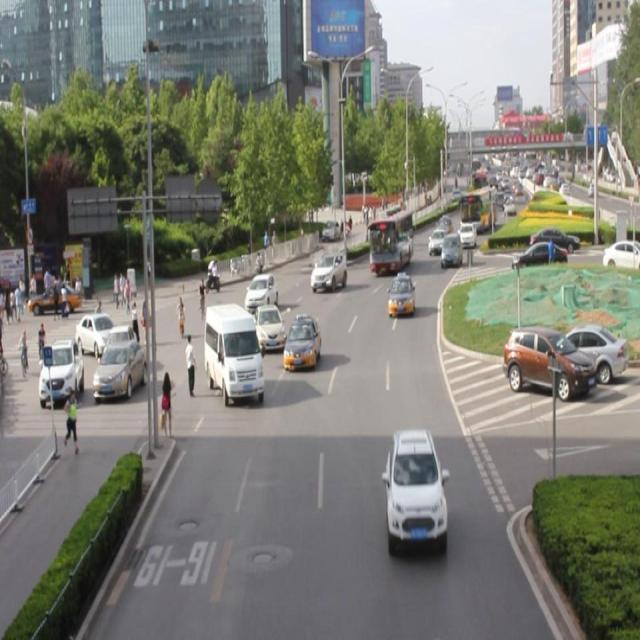car: (384, 427, 444, 545), (282, 316, 318, 368), (252, 302, 284, 348), (311, 251, 345, 291), (386, 272, 414, 318), (245, 272, 277, 311), (439, 231, 462, 268)
truck: (204, 302, 262, 396)
van: (367, 209, 412, 269)
